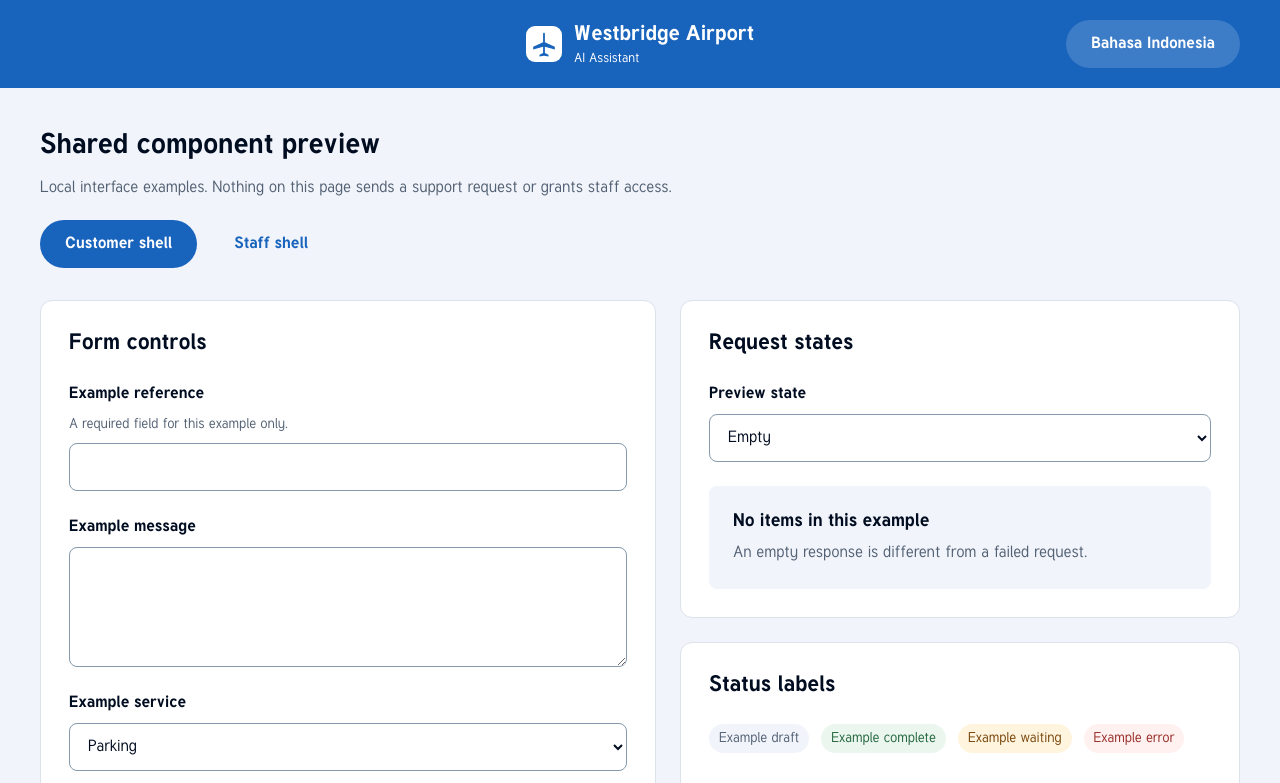
isolated component preview › prevents edits and duplicate activation during example validation, with no submission claim
The width and height of the screenshot is (1280, 783).
Later steps or results of the test are not shown.
Step 1. Type "DEMO-1" into the field labelled "Example reference" → {"x": 348, "y": 467}, box [69,443,627,491]
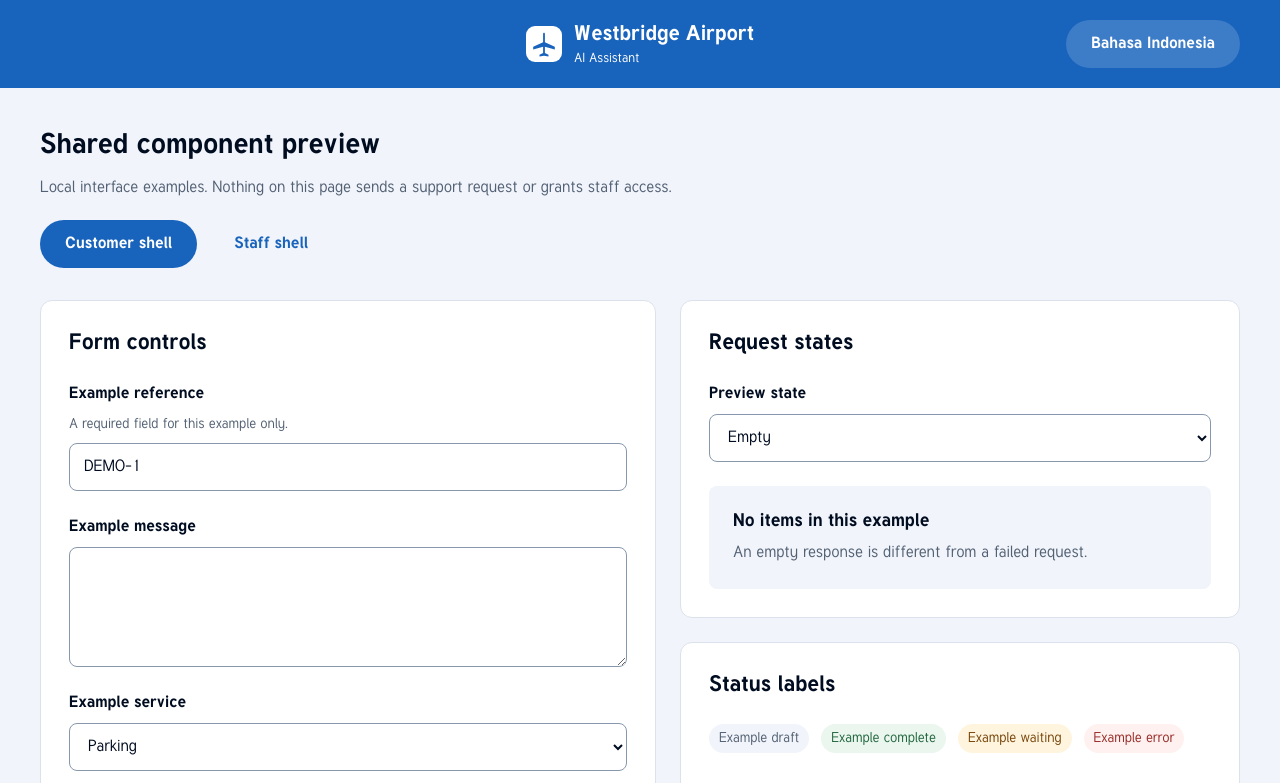
Step 2. Type "Sample story" into the text box labelled "Example message" → {"x": 348, "y": 607}, box [69,547,627,667]
(page scrolled)
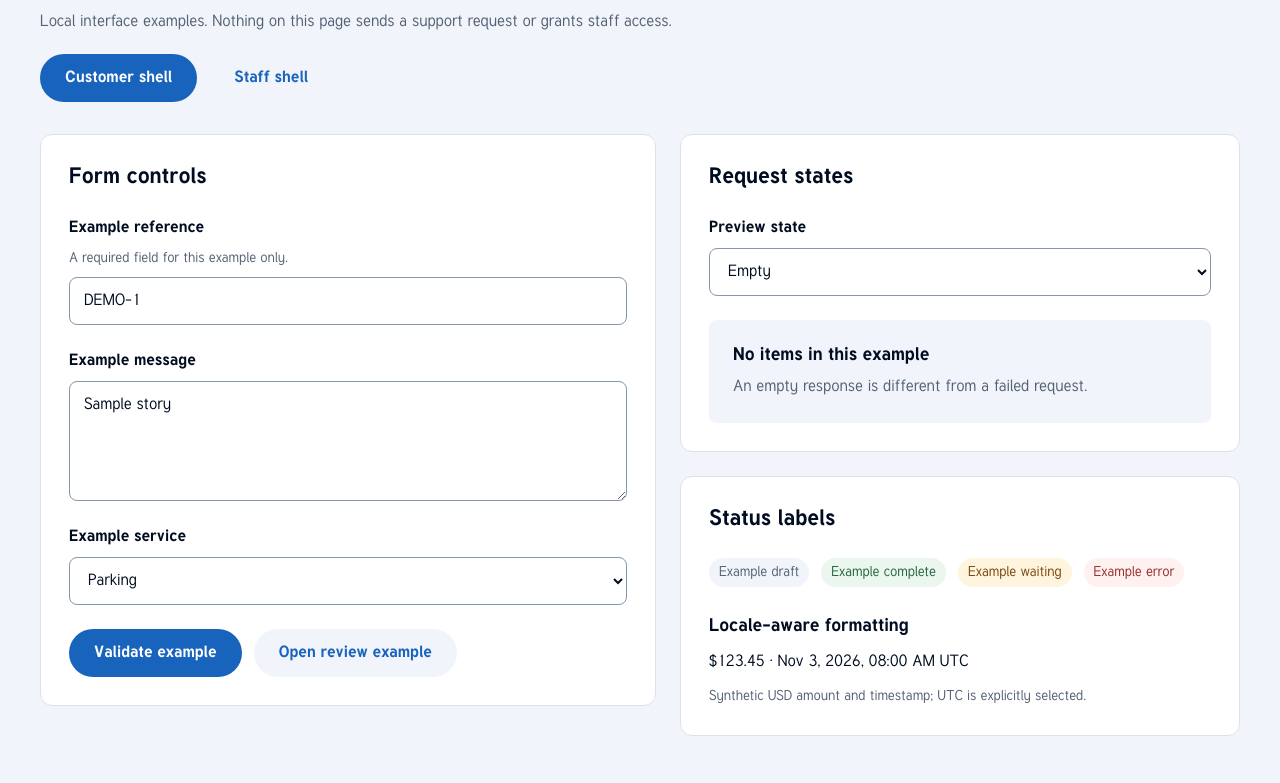
Step 3. Click the button "Validate example" → {"x": 155, "y": 653}, box [69,629,242,677]
Wait 600 ms
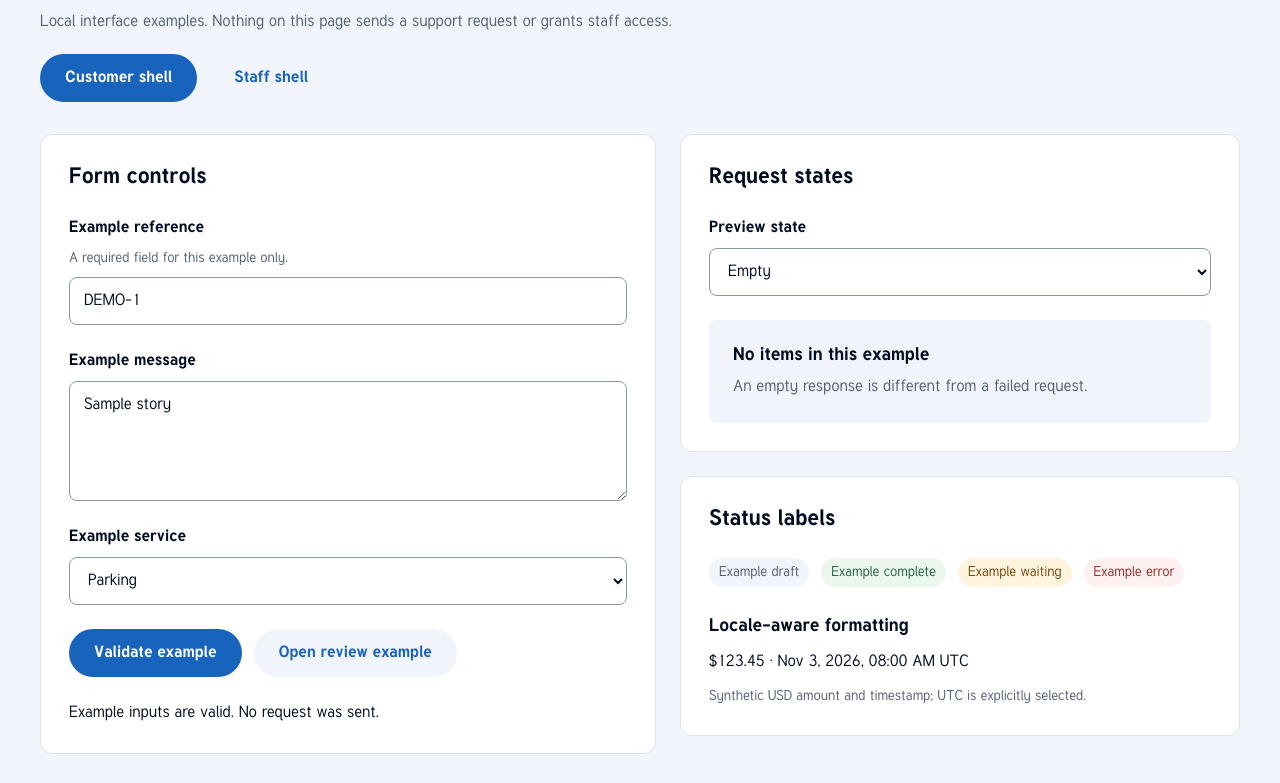
Expected: the text box labelled "Example message" is enabled, [69,381,627,501]
Expected: the text "Example inputs are valid. No request was sent." is shown, [69,705,379,721]
